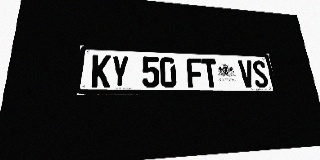0: (159, 57, 177, 88)
5: (142, 56, 160, 88)
F: (186, 58, 204, 88)
K: (91, 55, 111, 88)
S: (251, 60, 269, 88)
T: (201, 58, 219, 88)
V: (238, 60, 256, 88)
Y: (110, 55, 129, 88)
